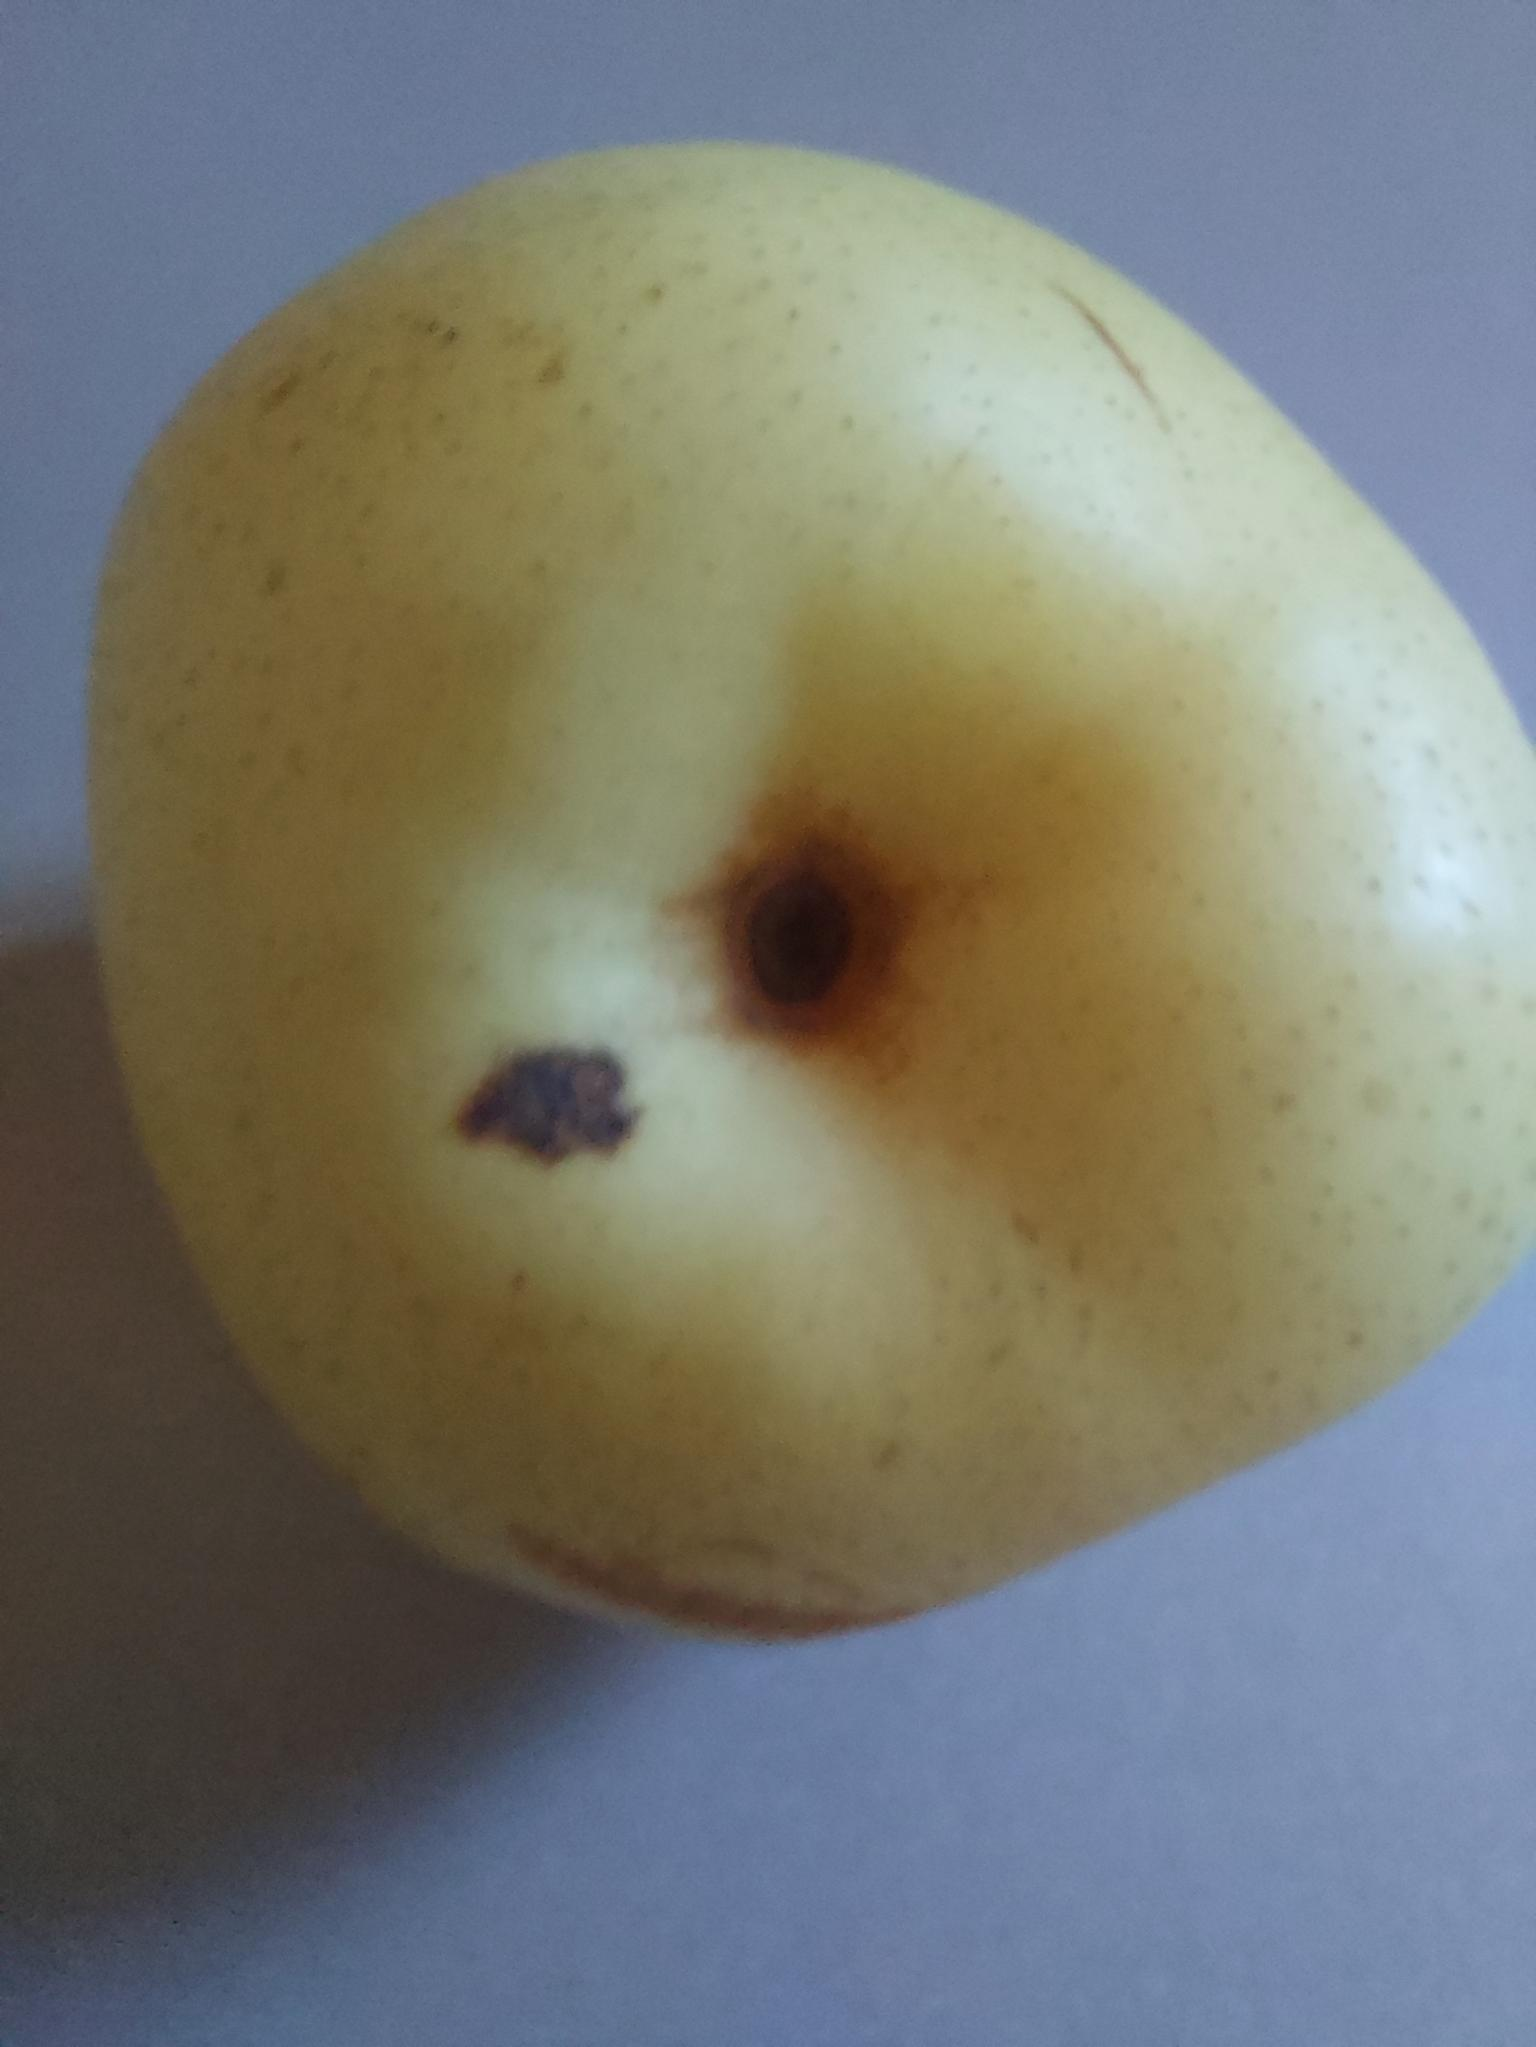Good Pear: (0, 89, 1536, 1741)
